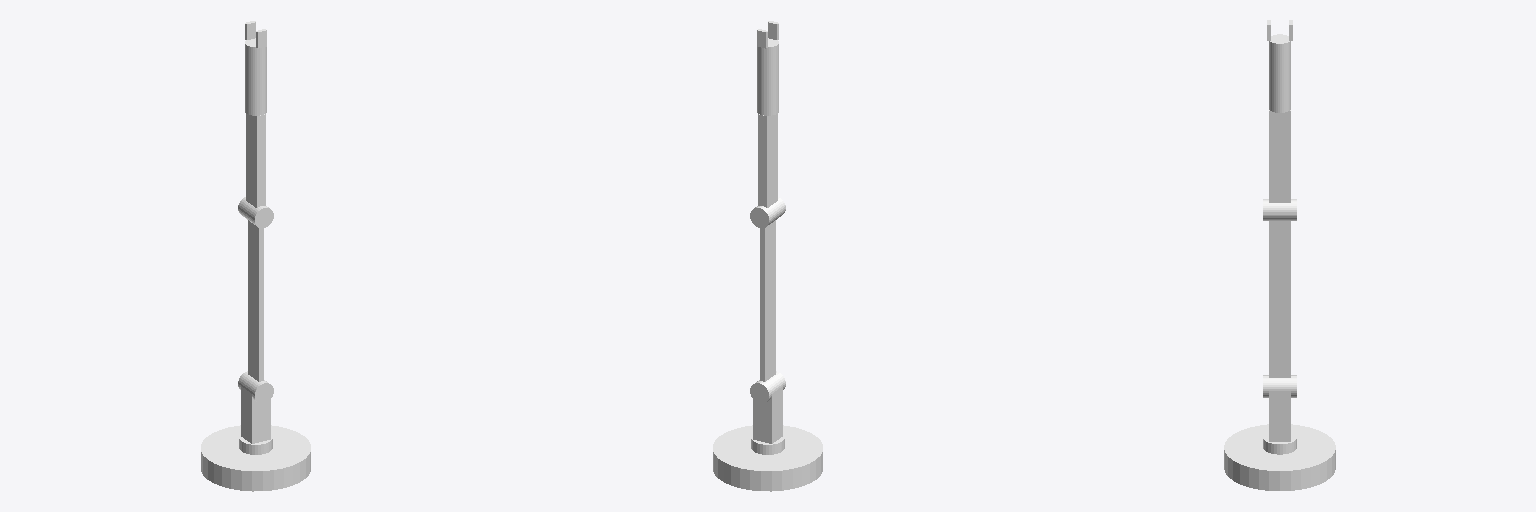
The robot description file, URDF, robot "marm":
<?xml version="1.0" ?>
<robot name="marm">

<!-- /    COLOR    / -->
	<material name="Black">
		<color rgba="0.0 0.0 0.0 1.0"/>
	</material>
	<material name="White">
		<color rgba="1.0 1.0 1.0 1.0"/>
	</material>
	<material name="Blue">
		<color rgba="0.0 0.0 0.9 1.0"/>
	</material>
	<material name="Red">
		<color rgba="1.0 0.0 0.0 1.0"/>
	</material>

<!-- /    BASE    / -->
	<link name="base_link">
		<visual>
			<origin rpy="0 0 0" xyz="0 0 0"/>
			<geometry>
				<cylinder length="0.02" radius="0.05"/>
			</geometry>
			<material name="White"/>
		</visual>
		<collision>
		    <origin rpy="0 0 0" xyz="0 0 0"/>
			<geometry>
        		<cylinder length="0.02" radius="0.05"/>
        	</geometry>
		</collision>
		<inertial>
		    <mass value="1"/>
		    <inertia ixx="0.00065833" ixy="0.0" ixz="0.0" iyy="0.00065833" iyz="0.0" izz="0.00125"/>
		</inertial>
	</link>


<!-- /   LINK0  // -->
	<link name="link0">
		<visual>
			<origin rpy="0 0 0" xyz="0 0 0.005"/>
			<geometry>
				<cylinder length="0.01" radius="0.015"/>
			</geometry>
			<material name="White"/>
		</visual>
		<collision>
		    <origin rpy="0 0 0" xyz="0 0 0.005"/>
		    <geometry>
				<cylinder length="0.01" radius="0.015"/>
            </geometry>
		</collision>
		<inertial>
		    <mass value="1"/>
		    <inertia ixx="0.0000645833333333333" ixy="0.0" ixz="0.0" iyy="0.0000645833333333333" iyz="0.0" izz="0.0001125"/>
		</inertial>
	</link>

	<joint name="joint0" type="fixed">
		<parent link="base_link"/>
		<child link="link0"/>
		<origin rpy="0 0 0" xyz="0 0 0.01"/>
	</joint>





<!-- /   LINK1  // -->
	<link name="link1">
		<visual>
			<origin rpy="0 0 0" xyz="0 0 0.025"/>
			<geometry>
				<box size="0.02 0.02 0.05"/>
			</geometry>
			<material name="White"/>
		</visual>
		<collision>
		    <origin rpy="0 0 0" xyz="0 0 0.025"/>
		    <geometry>
				<box size="0.02 0.02 0.05"/>
            </geometry>
		</collision>
		<inertial>
		    <mass value="1"/>
		    <inertia ixx="0.0002417" ixy="0.0" ixz="0.0" iyy="0.0002417" iyz="0.0" izz="0.000067"/>
		</inertial>
	</link>

	<joint name="joint1" type="revolute">
		<parent link="link0"/>
		<child link="link1"/>
		<origin rpy="0 0 0" xyz="0 0 0.01"/>
		<axis xyz="0 0 1"/>
        <limit effort="300" lower="-1.57" upper="1.57" velocity="0"/>
        <dynamics damping="1.0" friction="0.5"/>

	</joint>

<!-- ///   LINK1_1  // -->
	<link name="link1_1">
		<visual>
			<origin rpy="1.5708 0 0" xyz="0 0 0"/>
			<geometry>
				<cylinder length="0.03" radius="0.01"/>
			</geometry>
			<material name="White"/>
		</visual>
		<collision>
		    <origin rpy="1.5708 0 0" xyz="0 0 0"/>
		    <geometry>
        		<cylinder length="0.03" radius="0.01"/>
        	</geometry>
		</collision>
		<inertial>
		    <mass value="1"/>
            <inertia ixx="0.0001" ixy="0.0" ixz="0.0" iyy="0.00005" iyz="0.0" izz="0.0001"/>
		</inertial>
	</link>

	<joint name="joint1_1" type="fixed">
		<parent link="link1"/>
		<child link="link1_1"/>
		<origin rpy="0 0 0" xyz="0 0 0.05"/>
	</joint>

<!-- ///   LINK2  // -->
	<link name="link2">
		<visual>
			<origin rpy="0 0 0" xyz="0 0 0.087"/>
			<geometry>
				<box size="0.005 0.02 0.174"/>
			</geometry>
			<material name="White"/>
		</visual>
		<collision>
		    <origin rpy="0 0 0" xyz="0 0 0.087"/>
		    <geometry>
        	    <box size="0.005 0.02 0.174"/>
        	</geometry>
		</collision>
		<inertial>
		    <mass value="1"/>
            <inertia ixx="0.0101253" ixy="0.0" ixz="0.0" iyy="0.0100941" iyz="0.0" izz="0.0000354"/>
		</inertial>
	</link>

	<joint name="joint2" type="revolute">
		<parent link="link1_1"/>
		<child link="link2"/>
		<origin rpy="0 0 0" xyz="0 0 0"/>
		<axis xyz="0 1 0"/>
		<limit effort="300" lower="0.0" upper="1.570795" velocity="0"/>
		<dynamics damping="1.0" friction="0.5"/>
	</joint>

<!-- ///   LINK1_1  // -->
	<link name="link2_1">
		<visual>
			<origin rpy="1.5708 0 0" xyz="0 0 0"/>
			<geometry>
				<cylinder length="0.03" radius="0.01"/>
			</geometry>
			<material name="White"/>
		</visual>
		<collision>
		    <origin rpy="1.5708 0 0" xyz="0 0 0"/>
		    <geometry>
        		<cylinder length="0.03" radius="0.01"/>
        	</geometry>
		</collision>
		<inertial>
		    <mass value="1"/>
            <inertia ixx="0.0001" ixy="0.0" ixz="0.0" iyy="0.00005" iyz="0.0" izz="0.0001"/>
		</inertial>
	</link>

	<joint name="joint_arm_2" type="fixed">
		<parent link="link2"/>
		<child link="link2_1"/>
		<origin rpy="0 0 0" xyz="0 0 0.174"/>
	</joint>


<!-- /   LINK3  / -->
	<link name="link3">
	    <visual>
	        <origin rpy="0 0 0" xyz="0 0 0.05"/>
            <geometry>
                <box size="0.01 0.02 0.10"/>
            </geometry>
	        <material name="White"/>
	    </visual>
		<collision>
		    <origin rpy="0 0 0" xyz="0 0 0.05"/>
		    <geometry>
        	    <box size="0.01 0.02 0.10"/>
        	</geometry>
		</collision>
		<inertial>
		    <mass value="1"/>
            <inertia ixx="0.0008667" ixy="0.0" ixz="0.0" iyy="0.0008417" iyz="0.0" izz="0.0000417"/>
		</inertial>
	</link>

	<joint name="joint3" type="revolute">
		<parent link="link2_1"/>
		<child link="link3"/>
		<origin rpy="0 0 0" xyz="0 0 0"/>
		<axis xyz="0 1 0"/>
		<limit effort="300" lower="0.0" upper="1.570795" velocity="0"/>
		<dynamics damping="1.0" friction="0.5"/>
	</joint>


<!-- /   LINK3_up  / -->
	<link name="link3_up">
	    <visual>
	        <origin rpy="0 0 0" xyz="0 0 0.034"/>
            <geometry>
                <cylinder length="0.068" radius="0.01"/>
            </geometry>
	        <material name="White"/>
	    </visual>
		<collision>
		    <origin rpy="0 0 0" xyz="0 0 0.034"/>
		    <geometry>
                <cylinder length="0.068" radius="0.01"/>
        	</geometry>
		</collision>
		<inertial>
		    <mass value="1"/>
            <inertia ixx="0.0004103" ixy="0.0" ixz="0.0" iyy="0.0004103" iyz="0.0" izz="0.00005"/>
		</inertial>
	</link>

	<joint name="joint3_and_up" type="revolute">
		<parent link="link3"/>
		<child link="link3_up"/>
		<origin rpy="0 0 0" xyz="0 0 0.1"/>
		<axis xyz="0 0 1"/>
        <limit effort="300" lower="-1.570795" upper="1.570795" velocity="0"/>
        <dynamics damping="1.0" friction="0.5"/>
	</joint>



<!-- //   GRIPPER   // -->
	<link name="gripper_finger_link1">
		<visual>
			<origin rpy="0 0 0" xyz="0 0 0.008"/>
			<geometry>
				<box size="0.01 0.004 0.016"/>
			</geometry>
			<material name="White"/>
		</visual>
		<collision>
		    <origin rpy="0 0 0" xyz="0 0 0.008"/>
			<geometry>
        		<box size="0.01 0.004 0.016"/>
        	</geometry>
		</collision>
	    <inertial>
            <mass value="0.1"/>
            <inertia ixx="2.2667e-6" ixy="0.0" ixz="0.0" iyy="3.0333e-6" iyz="0.0" izz="9.6667e-7"/>
        </inertial>
	</link>

	<link name="gripper_finger_link2">
		<visual>
			<origin rpy="0 0 0" xyz="0 0 0.008"/>
			<geometry>
				<box size="0.01 0.004 0.016"/>
			</geometry>
			<material name="White"/>
		</visual>
		<collision>
		    <origin rpy="0 0 0" xyz="0 0 0.008"/>
			<geometry>
                <box size="0.01 0.004 0.016"/>
            </geometry>
		</collision>
	    <inertial>
            <mass value="0.1"/>
            <inertia ixx="2.2667e-6" ixy="0.0" ixz="0.0" iyy="3.0333e-6" iyz="0.0" izz="9.6667e-7"/>
        </inertial>
	</link>

	<joint name="finger_joint1" type="prismatic">
		<parent link="link3_up"/>
		<child link="gripper_finger_link1"/>
		<origin rpy="0 0 0" xyz="0 -0.01 0.068"/>
		<axis xyz="0 1 0"/>
		<limit effort="100" lower="0" upper="0.01" velocity="0"/>
		<dynamics damping="1.0" friction="0.5"/>
	</joint>

	<joint name="finger_joint2" type="prismatic">
		<parent link="link3_up"/>
		<child link="gripper_finger_link2"/>
		<origin rpy="0 0 0" xyz="0 0.01 0.068"/>
		<axis xyz="0 -1 0"/>
        <limit effort="100" lower="0" upper="0.01" velocity="0"/>
        <dynamics damping="1.0" friction="0.5"/>
	</joint>

<!-- //   GRASPING FRAME   // -->
	<link name="grasping_frame"/>

	<joint name="grasping_frame_joint" type="fixed">
		<parent link="link3_up"/>
		<child link="grasping_frame"/>
		<origin rpy="0 0 0" xyz="0.06 0 0"/>
	</joint>



</robot>

--- Render facts (derived) ---
The picture shows the robot from 3 angles, left to right: view 1: azimuth 30°, elevation 25°; view 2: azimuth 150°, elevation 25°; view 3: azimuth 270°, elevation 25°; orthographic projection.
Model marm with 11 links and 10 joints (4 revolute, 2 prismatic, 4 fixed), rooted at base_link, posed all joints at 0.
Visible links, largest first — view 1: base_link, link2, link3, link3_up, link1, link1_1, link2_1; view 2: base_link, link2, link3, link3_up, link1, link1_1, link2_1; view 3: base_link, link2, link3, link3_up, link1, link2_1, link1_1.
Boxes of the visible links, x1,y1,x2,y2 form: base_link: (201, 425, 310, 491); link2: (248, 220, 263, 381); link3: (246, 114, 265, 207); link3_up: (245, 38, 266, 115); link1: (241, 386, 270, 443); link1_1: (238, 371, 273, 403); link2_1: (238, 197, 273, 227); base_link: (713, 425, 822, 491); link2: (760, 220, 775, 381); link3: (758, 114, 777, 207); link3_up: (757, 38, 778, 115); link1: (753, 386, 782, 443); link1_1: (750, 371, 785, 403); link2_1: (750, 197, 785, 227); base_link: (1224, 424, 1335, 490); link2: (1269, 221, 1290, 377); link3: (1269, 110, 1290, 202); link3_up: (1269, 34, 1290, 112); link1: (1269, 391, 1290, 441); link2_1: (1263, 199, 1296, 220); link1_1: (1263, 375, 1296, 397).
Size in the robot's own frame: 0.1 by 0.1 by 0.438 metres.
Geometry: primitives only (box / cylinder / sphere), no mesh files.
